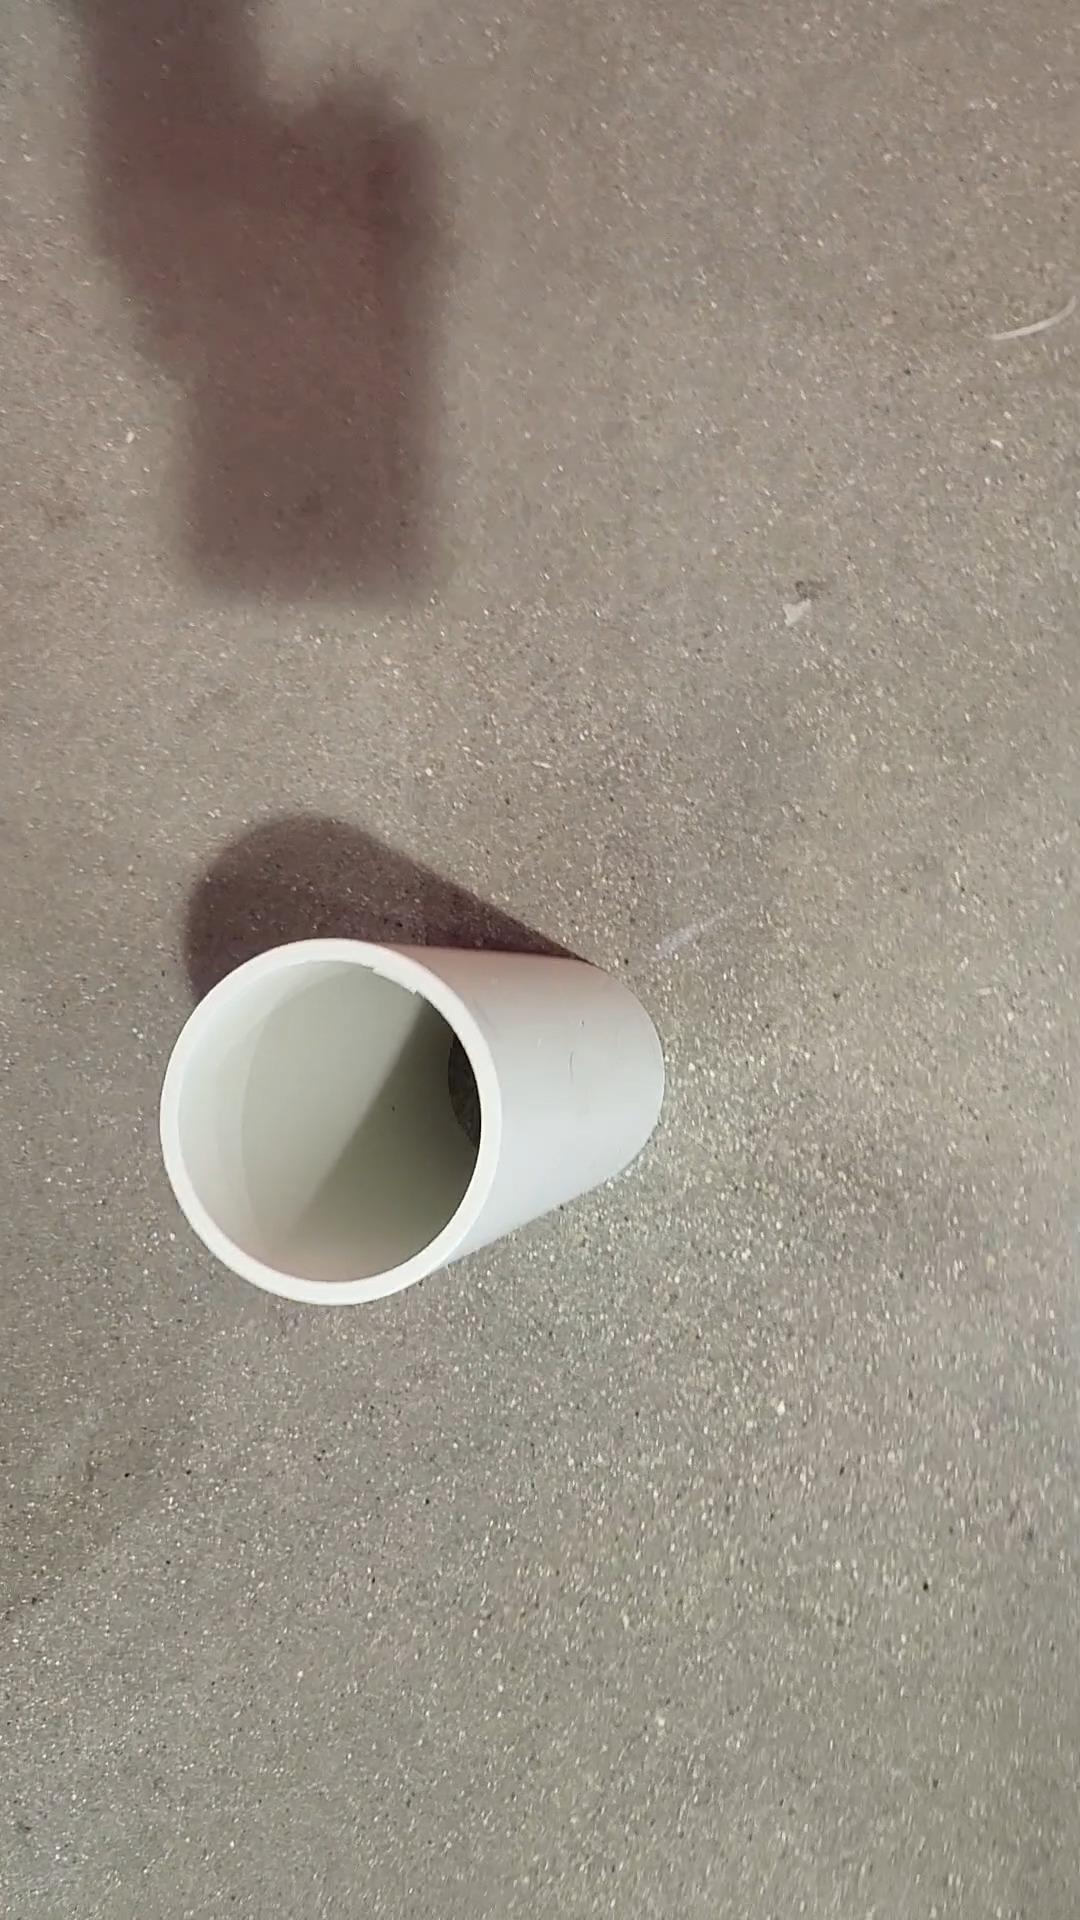coral: (162, 940, 662, 1308)
